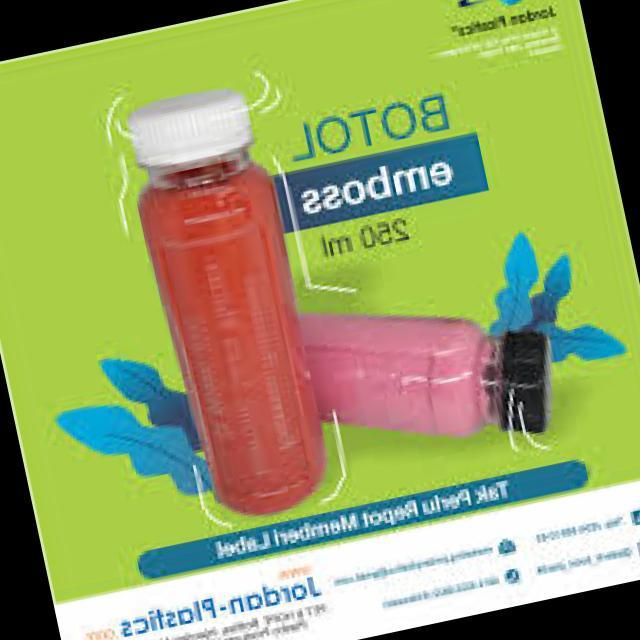good: (75, 59, 385, 542)
